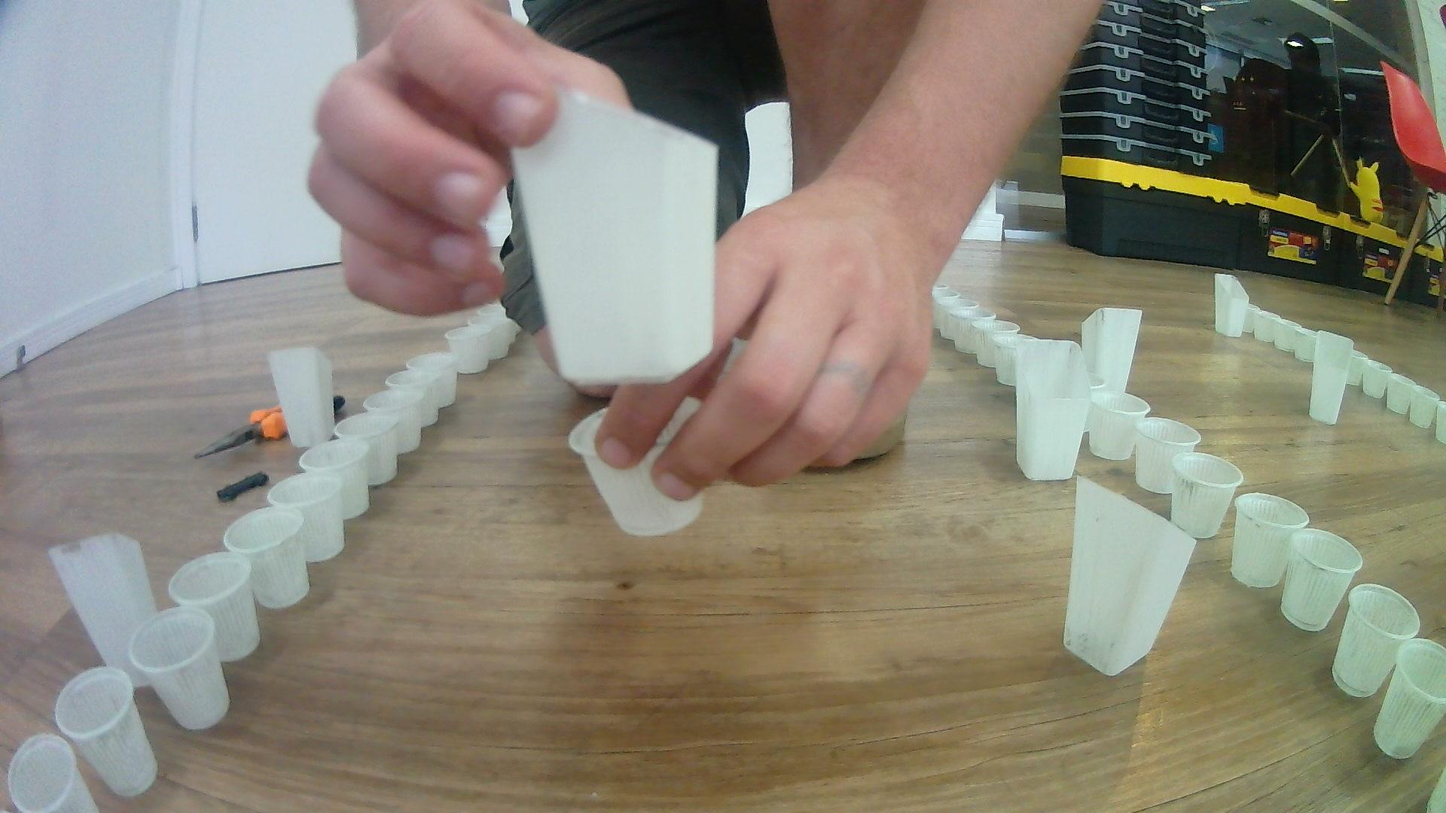erva_daninha: (510, 87, 719, 388), (1062, 475, 1198, 678), (48, 531, 160, 686), (1014, 340, 1094, 483), (267, 345, 338, 452), (1081, 307, 1143, 397), (1308, 330, 1355, 426), (1213, 273, 1250, 338)
planta: (568, 396, 712, 539), (55, 665, 159, 797), (127, 606, 232, 732), (167, 552, 262, 664), (1332, 583, 1422, 699), (223, 507, 311, 610), (1372, 638, 1446, 760), (1280, 528, 1363, 632), (7, 732, 102, 813), (1231, 492, 1310, 589), (264, 471, 345, 562), (1172, 452, 1246, 540), (299, 439, 371, 522), (1134, 416, 1202, 495), (334, 411, 399, 486), (1088, 391, 1152, 461), (362, 388, 423, 455), (385, 370, 440, 428), (407, 352, 457, 410), (991, 331, 1035, 386), (444, 327, 493, 375), (972, 321, 1020, 369), (467, 316, 511, 360), (956, 310, 997, 356), (939, 298, 980, 343), (482, 304, 521, 346), (1409, 385, 1442, 430), (1385, 373, 1417, 414), (930, 288, 960, 329), (1362, 361, 1392, 399), (1294, 328, 1319, 362), (1345, 349, 1366, 386), (1274, 320, 1298, 351), (1258, 309, 1277, 343), (1243, 305, 1261, 340), (1435, 403, 1446, 443)
